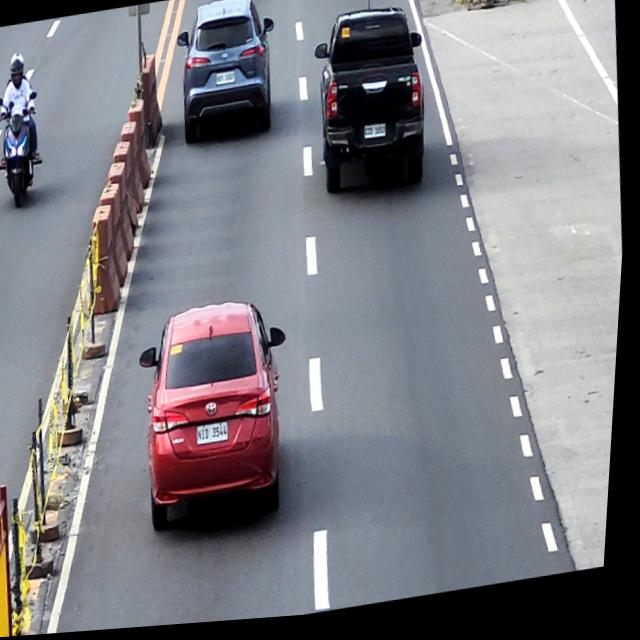Car: (131, 294, 307, 537), (304, 0, 438, 205), (169, 0, 285, 149)
License-Plate: (199, 422, 235, 449), (365, 128, 388, 145), (215, 73, 237, 89)
Motorcycle: (0, 89, 51, 211)
